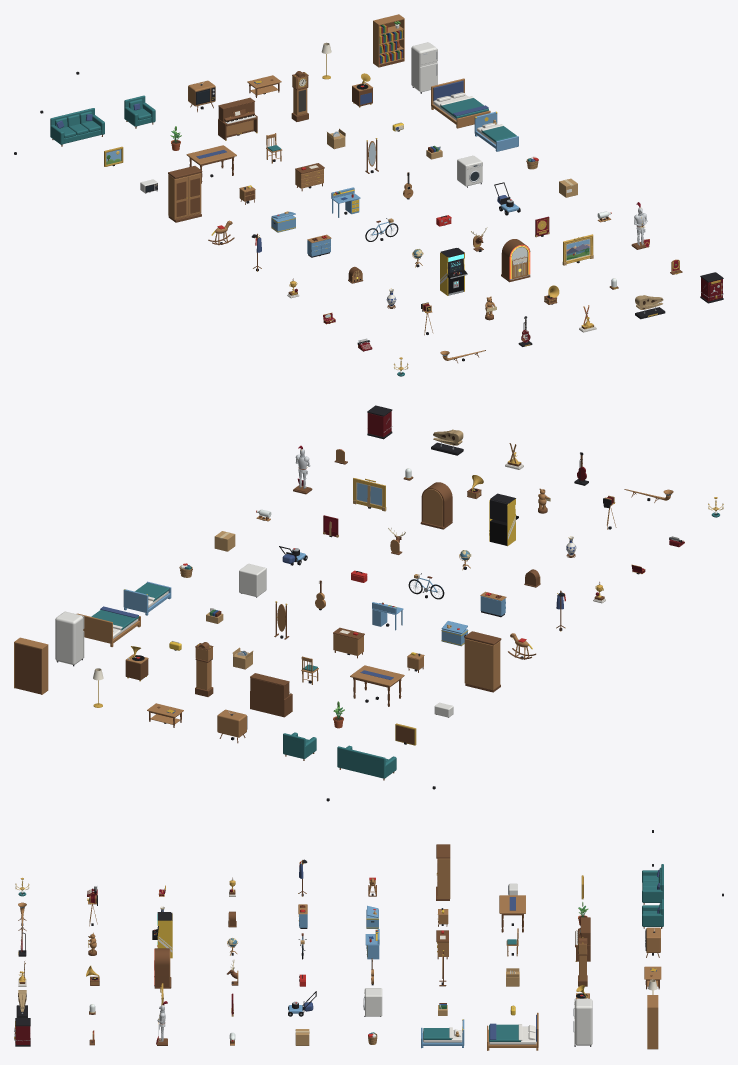
Rendered from ZDCFurnitureArt.fbx.
3 renders of one model, top to bottom at view 1: azimuth 30°, elevation 25°; view 2: azimuth 150°, elevation 25°; view 3: azimuth 270°, elevation 25°, orthographic. The views are drawn at different scales.
Visible parts, largest first — view 1: sofa_fabric, fridge_appliance, wardrobe_wood2, piano_wood2, wardrobe_wood, bookshelf_wood, armchair_fabric, kids_bed_paint, washing_machine_appliance; view 2: wardrobe_wood, piano_wood2, fridge_appliance, sofa_fabric, bookshelf_wood2, bed_wood, washing_machine_appliance, armchair_fabric, tv_wood, kids_bed_paint, jukebox_wood2, jukebox_wood (+2 smaller); view 3: fridge_appliance, sofa_fabric, jukebox_wood2, bookshelf_wood, wardrobe_wood, washing_machine_appliance, armchair_fabric, arcade_cabinet_accent, bed_fabric, bed_white, dining_table_wood, piano_wood2 (+1 smaller).
Boxes of the visible parts, box(x1,y1,x2,y2) form: sofa_fabric: box(50, 108, 104, 144); fridge_appliance: box(411, 42, 437, 92); wardrobe_wood2: box(168, 166, 202, 222); piano_wood2: box(218, 97, 257, 139); wardrobe_wood: box(168, 173, 201, 219); bookshelf_wood: box(373, 14, 404, 67); armchair_fabric: box(124, 95, 155, 126); kids_bed_paint: box(474, 112, 518, 151); washing_machine_appliance: box(457, 155, 482, 186); wardrobe_wood: box(464, 638, 500, 690); piano_wood2: box(250, 673, 292, 717); fridge_appliance: box(55, 611, 84, 664); sofa_fabric: box(337, 745, 396, 778); bookshelf_wood2: box(15, 643, 41, 694); bed_wood: box(77, 613, 140, 646); washing_machine_appliance: box(239, 563, 266, 596); armchair_fabric: box(283, 732, 316, 759); tv_wood: box(217, 709, 246, 737); kids_bed_paint: box(123, 581, 171, 615); jukebox_wood2: box(420, 482, 452, 529); jukebox_wood: box(423, 489, 442, 526); fridge_appliance: box(574, 998, 592, 1045); sofa_fabric: box(642, 864, 663, 902); jukebox_wood2: box(154, 948, 171, 988); bookshelf_wood: box(647, 995, 658, 1049); wardrobe_wood: box(437, 858, 450, 898); washing_machine_appliance: box(364, 988, 382, 1016); armchair_fabric: box(642, 899, 663, 926); arcade_cabinet_accent: box(157, 914, 172, 958); bed_fabric: box(489, 1024, 520, 1041); bed_white: box(489, 1024, 536, 1044); dining_table_wood: box(499, 895, 525, 913); piano_wood2: box(575, 917, 590, 961).
Size of the model in its own units: 62.85 by 10.3 by 101.
